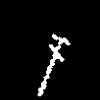double_crochet: (38, 34, 69, 95)
